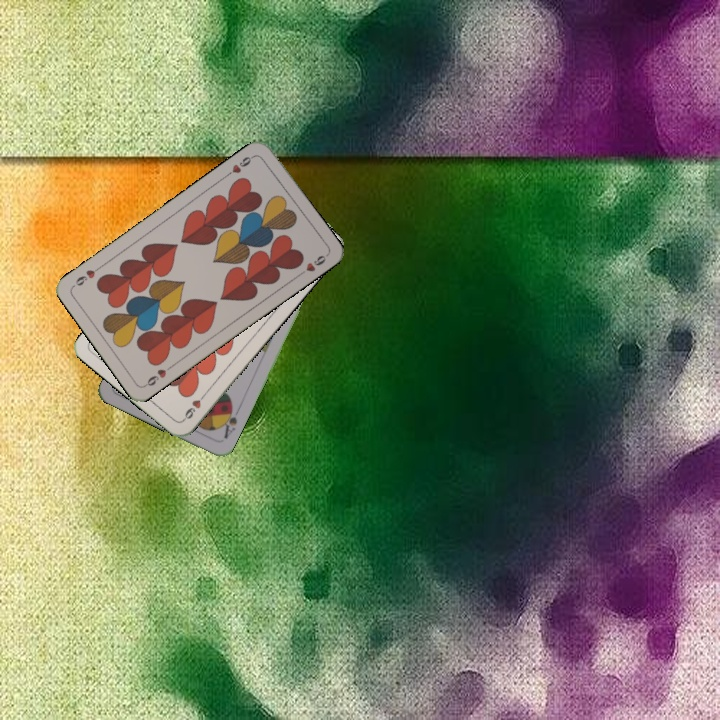H9: (179, 389, 209, 423), (222, 151, 258, 179), (141, 361, 176, 389)
SA: (217, 402, 240, 442)
